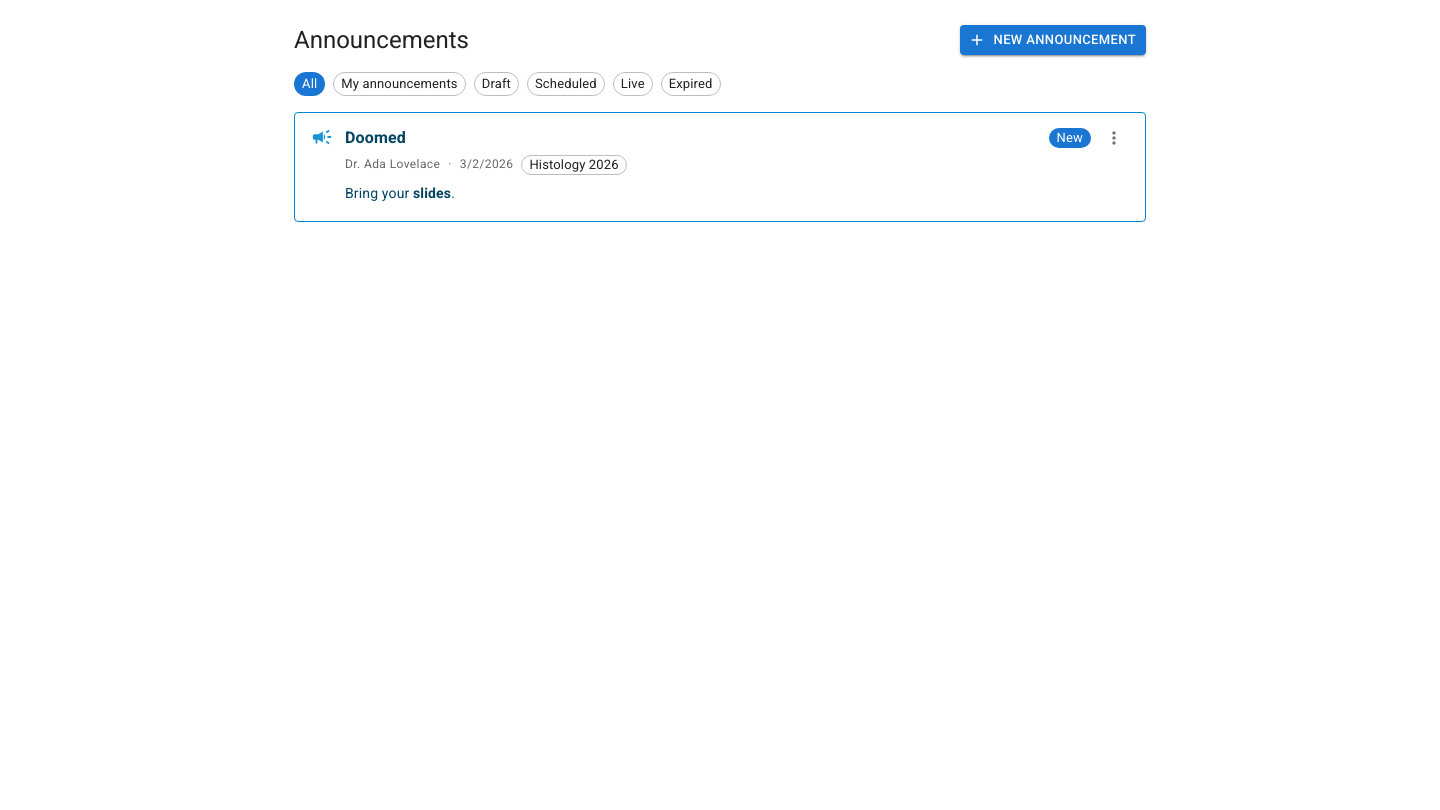
it: AnnouncementsPage › delete asks for confirmation, then removes the row from the stream and the feed
This screenshot has width=1440, height=810.
Check: the heading "Doomed" is shown, box [345,128,406,147]
Click the button named "Actions for Doomed" at (1114, 138), box [1099,123,1129,153]
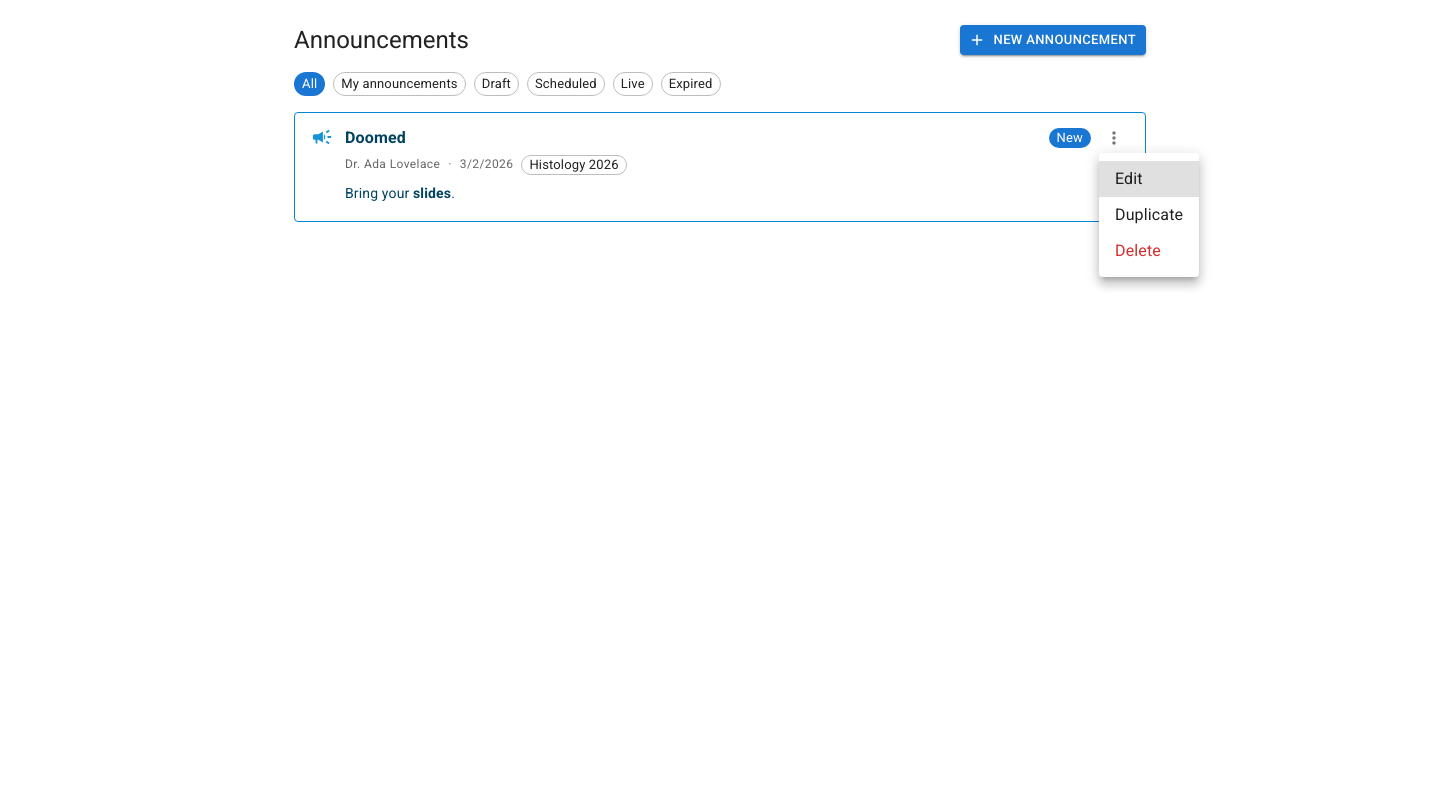
Click the menu item "Delete" at (1138, 250), box [1115,241,1161,260]
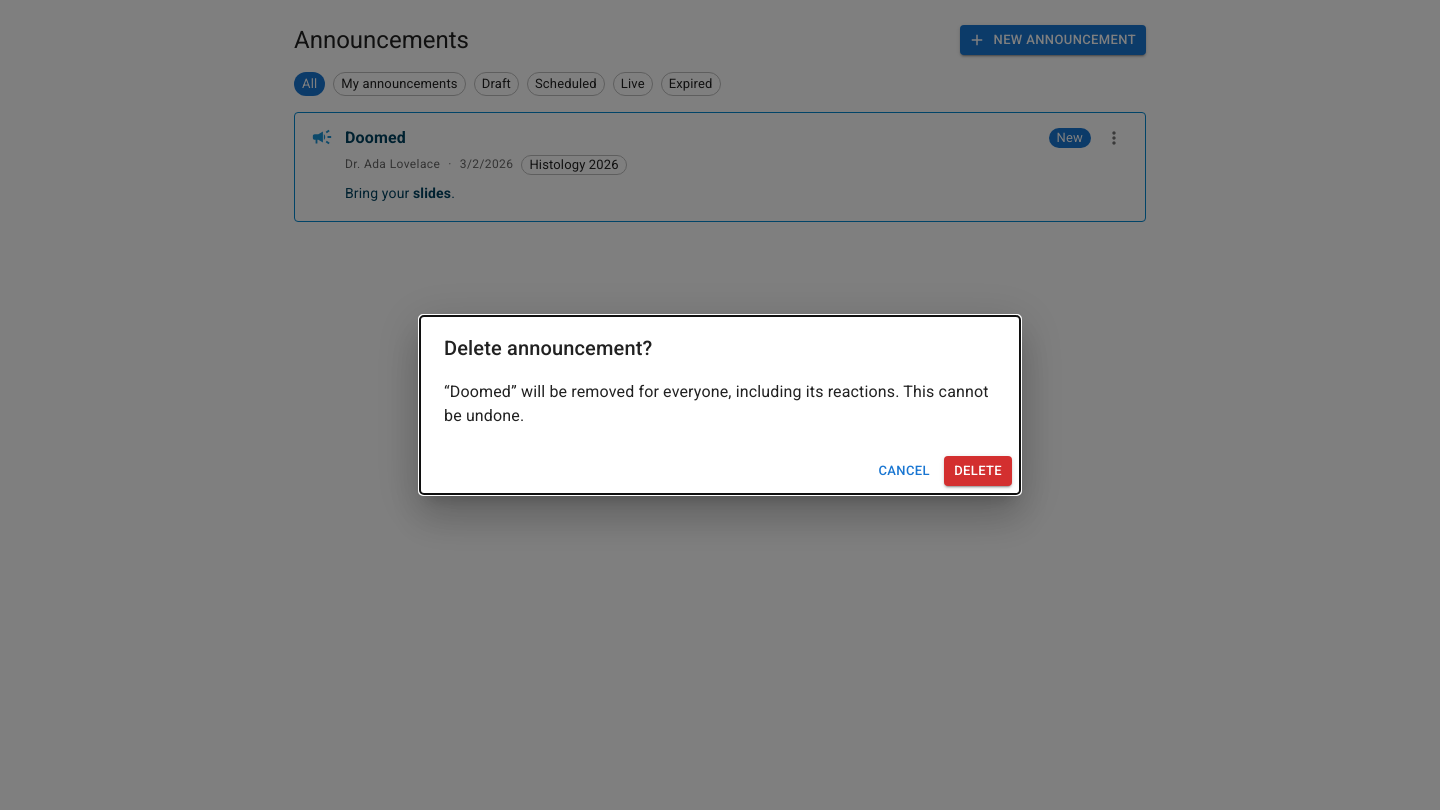
Check: the heading "Delete announcement?" is shown, box [444,336,652,360]
Click the button "Delete" at (978, 471), box [944,456,1012,486]
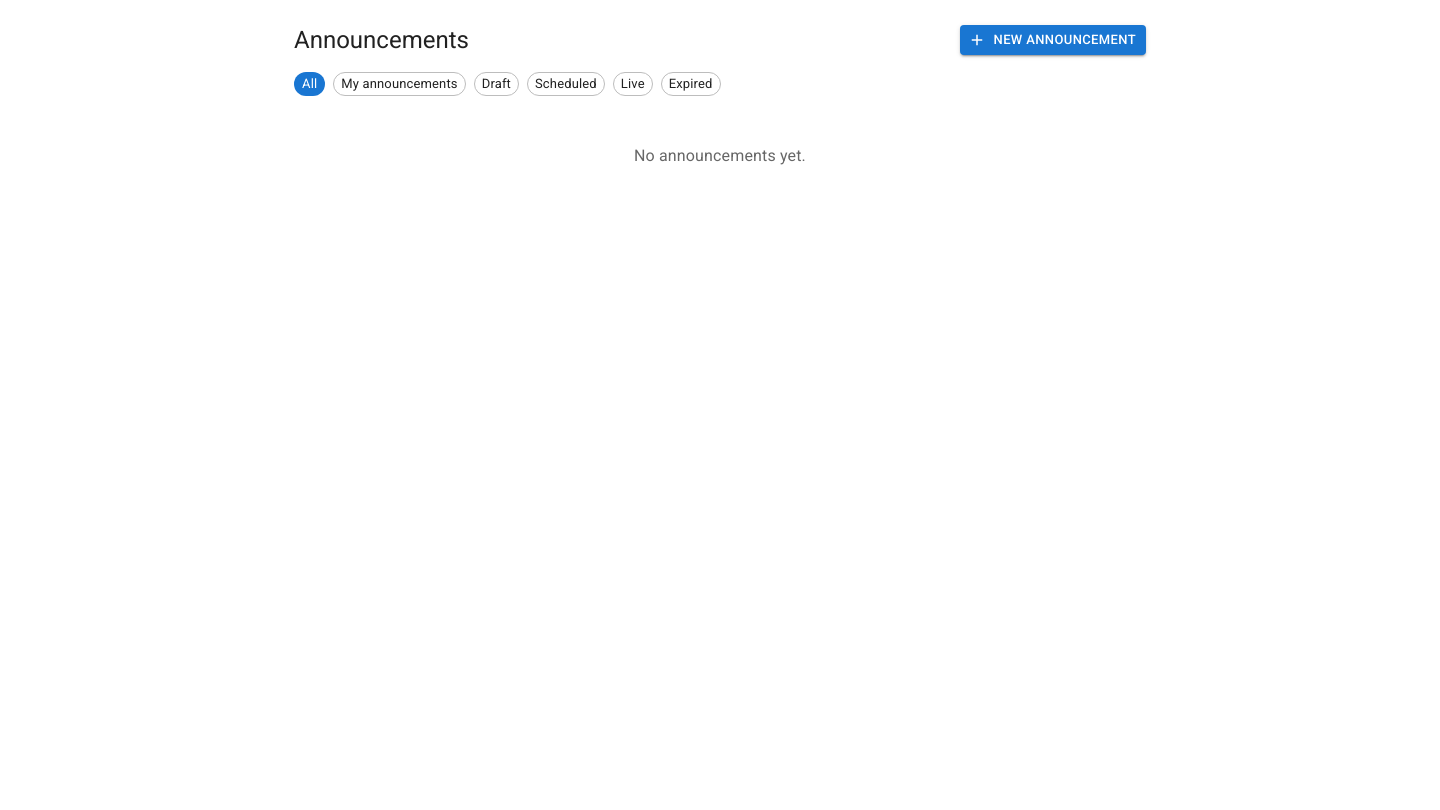
Check: the heading "Doomed" is gone
